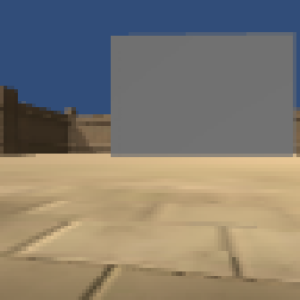wall: (108, 34, 296, 158)
